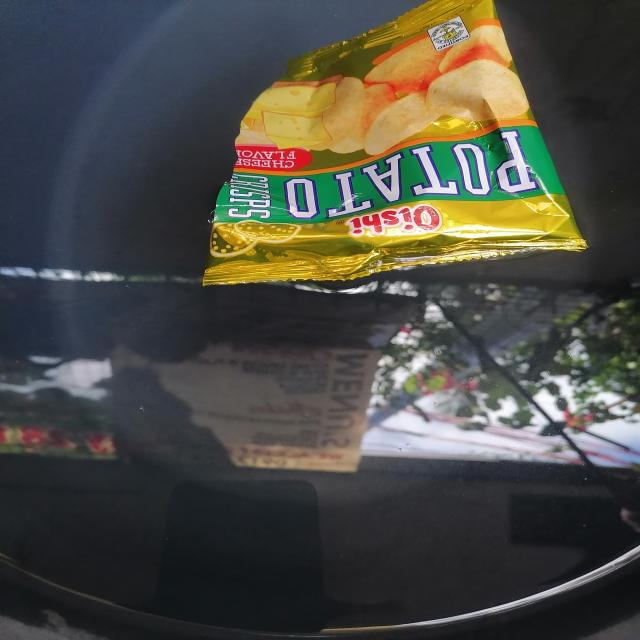Plastic Wrapper: (204, 0, 586, 285)
